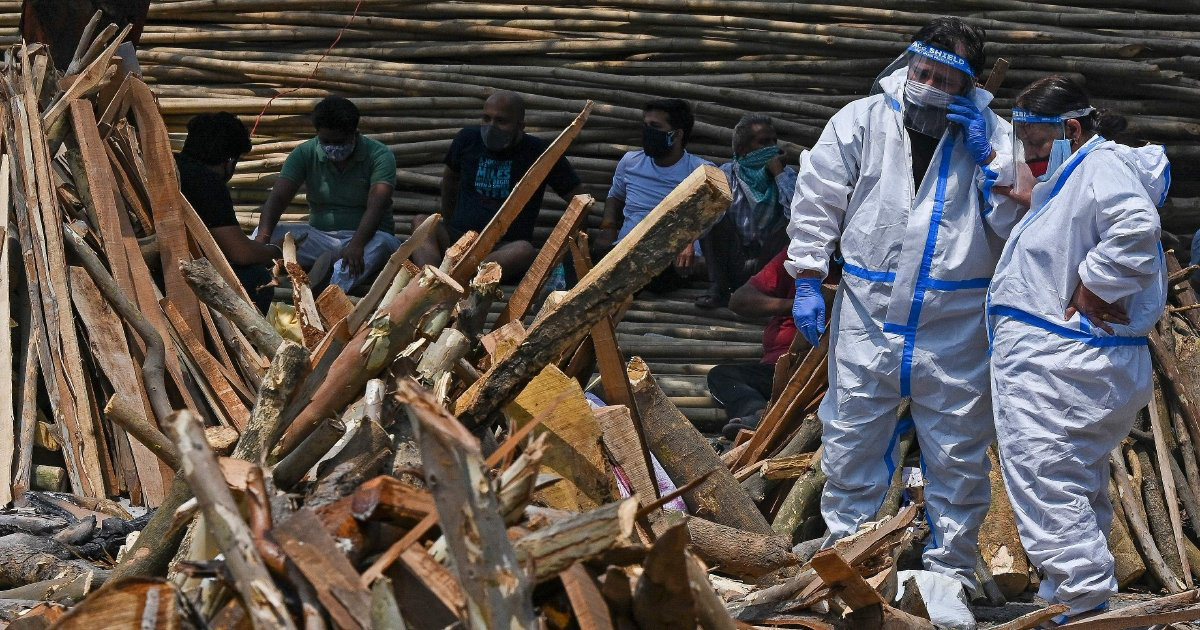Coverall: (792, 10, 1003, 572), (986, 157, 1165, 605)
Gloves: (949, 93, 1000, 168), (790, 274, 833, 347)
with_mask: (902, 62, 956, 114), (637, 115, 685, 162), (476, 112, 520, 149)
